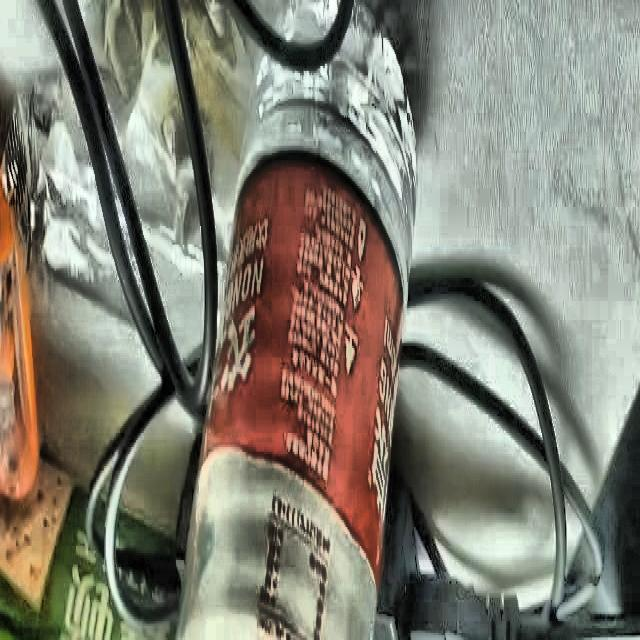plastic: (129, 0, 422, 640)
